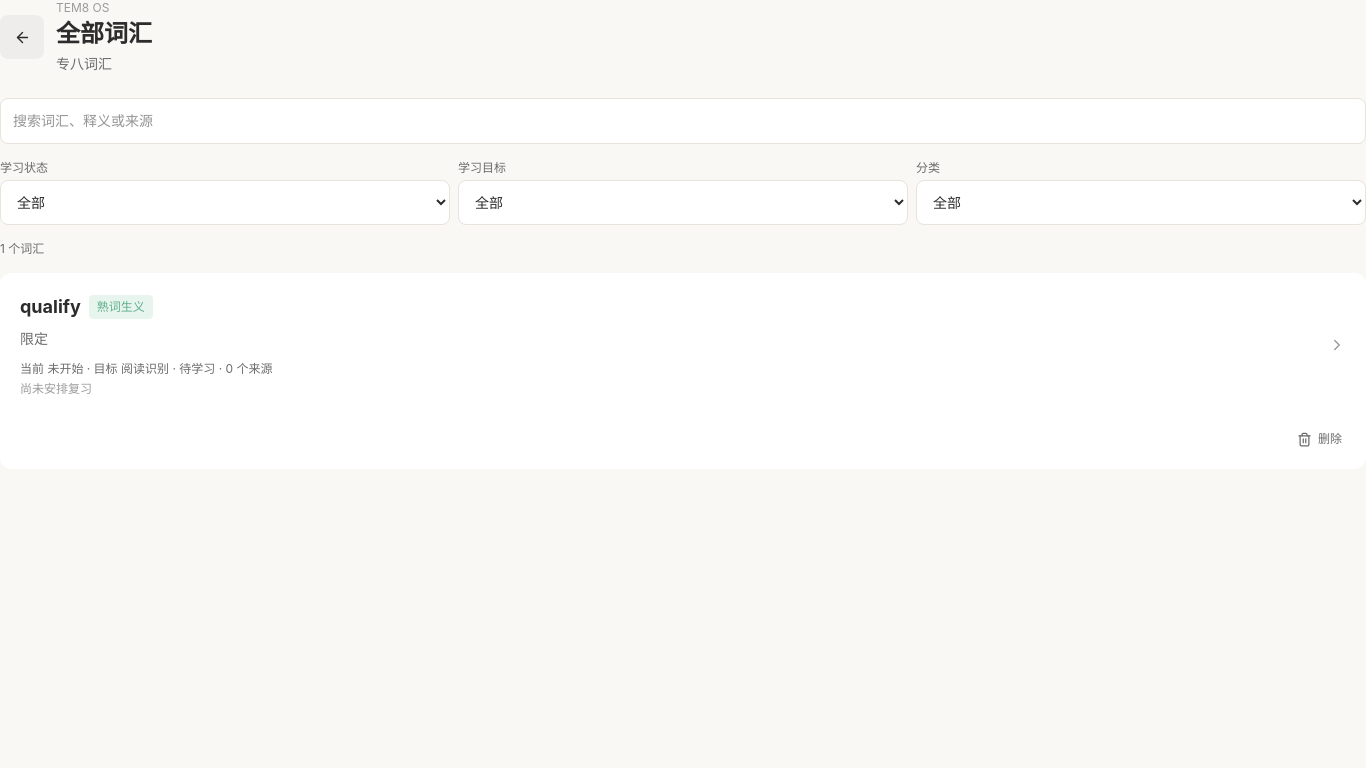
Test case: TEM8 full vocabulary page › hides the server solution until an answer is submitted
The image size is (1366, 768).
Click the link "qualify 熟词生义 限定 当前 未开始 · 目标 阅读识别 · 待学习 · 0 个来源 尚未安排复习".
click(683, 345)  # box [0,273,1365,417]
(page scrolled)
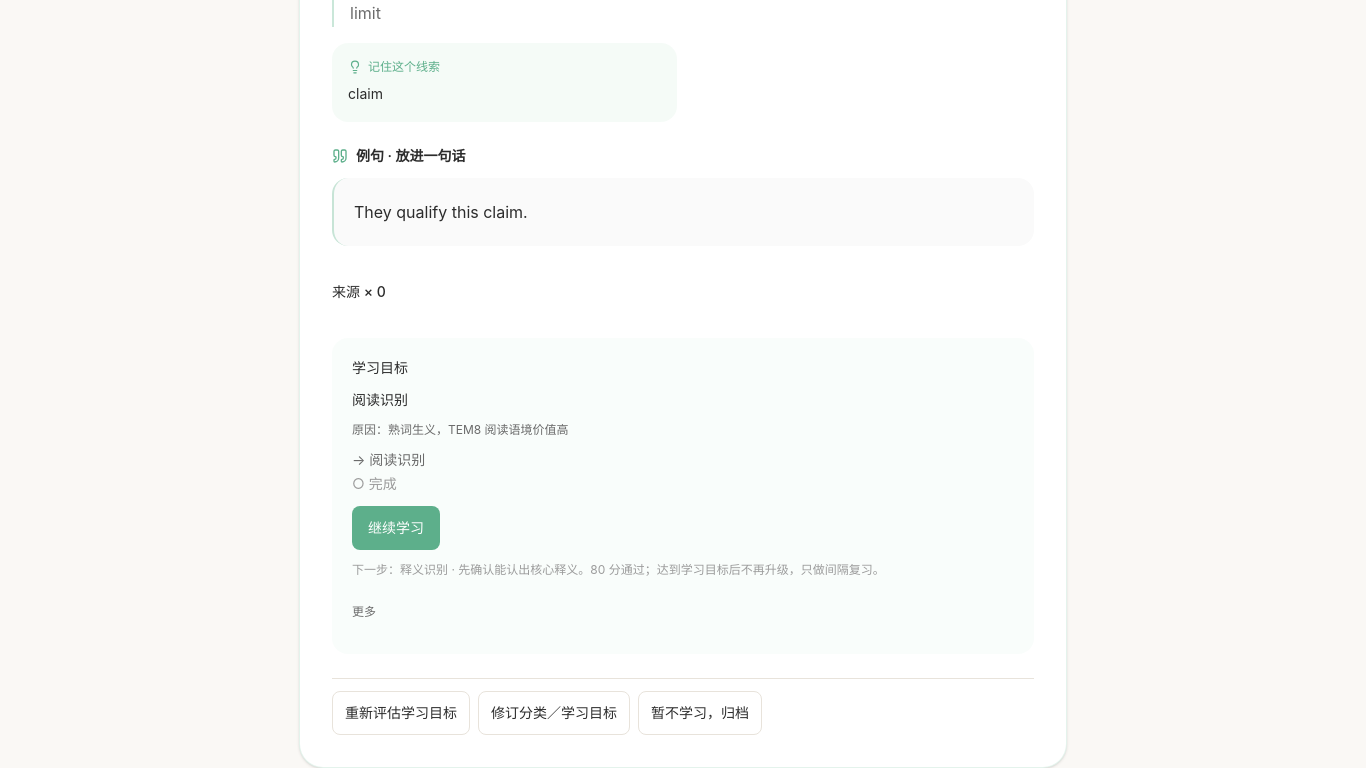
Click the button "继续学习".
click(396, 528)  # box [352,506,440,550]
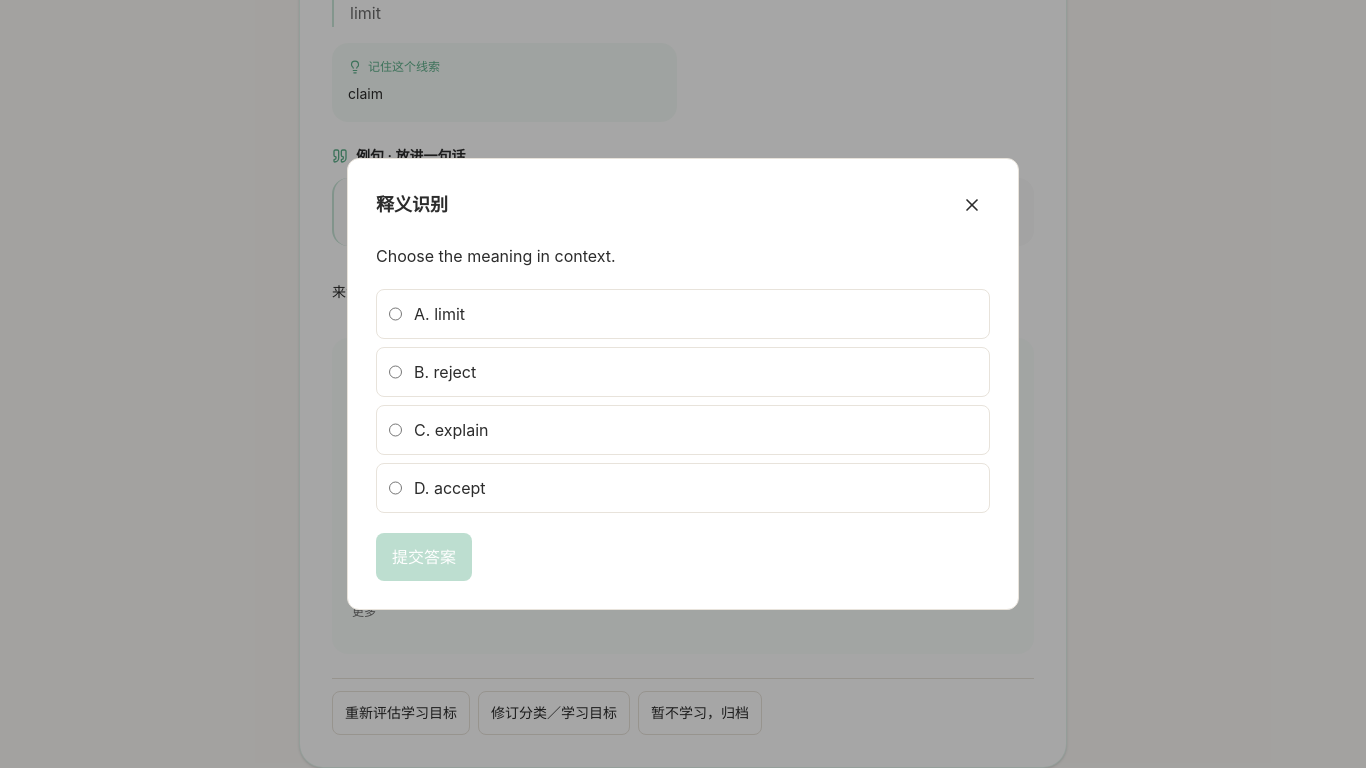
Expected: the text "to limit a statement" is not shown
Result: the button "提交答案" is disabled at [376,533,472,581]
Click the radio button labelled "A. limit".
click(396, 314)  # box [389,302,402,326]
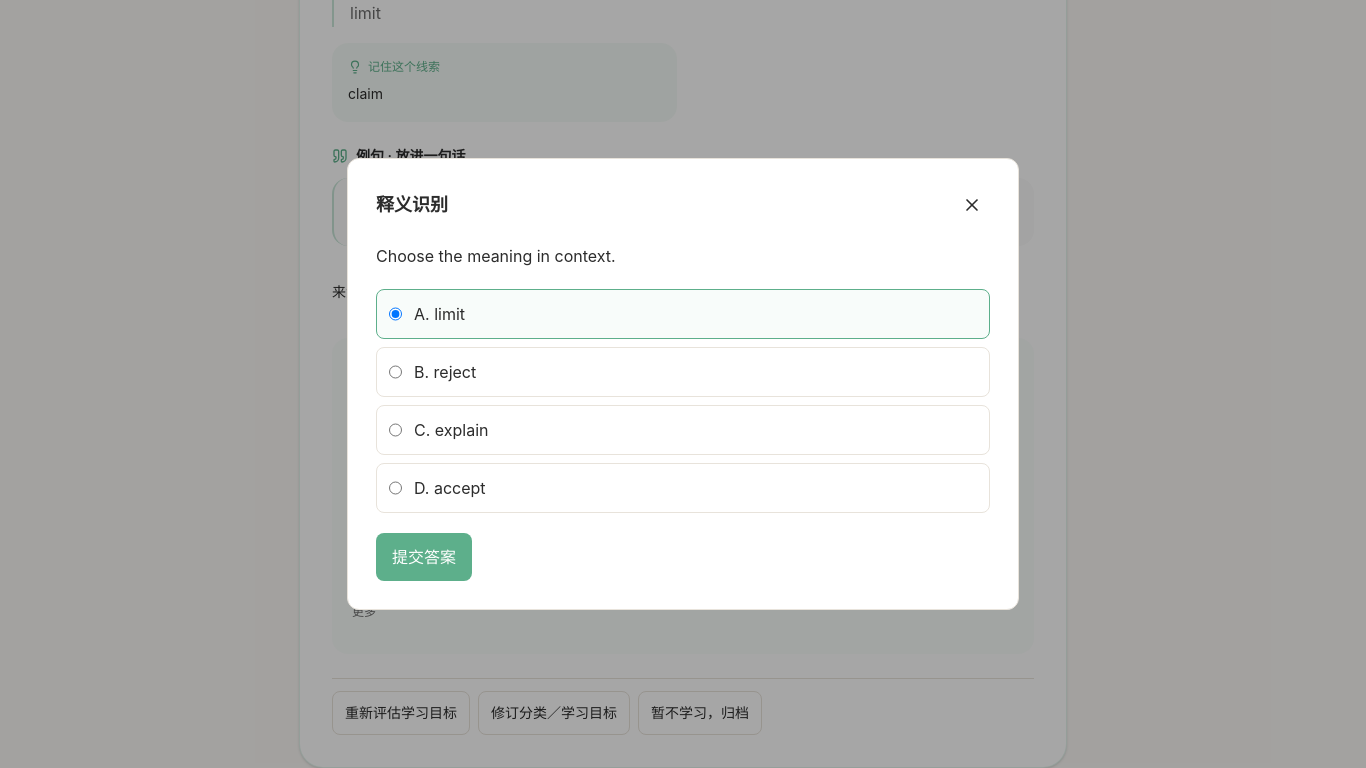
Click the button "提交答案".
click(424, 557)  # box [376,533,472,581]
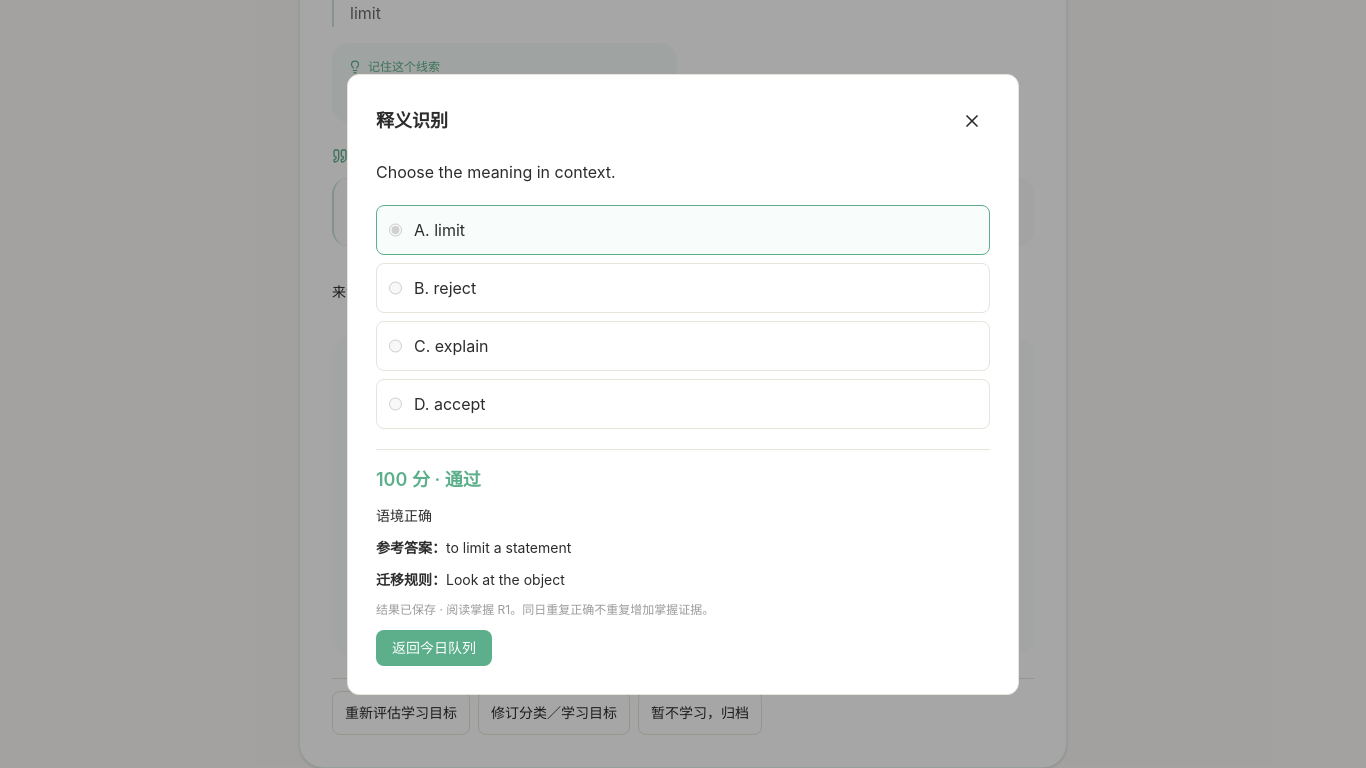
Result: the text "to limit a statement" is shown at [446,538,571,556]
